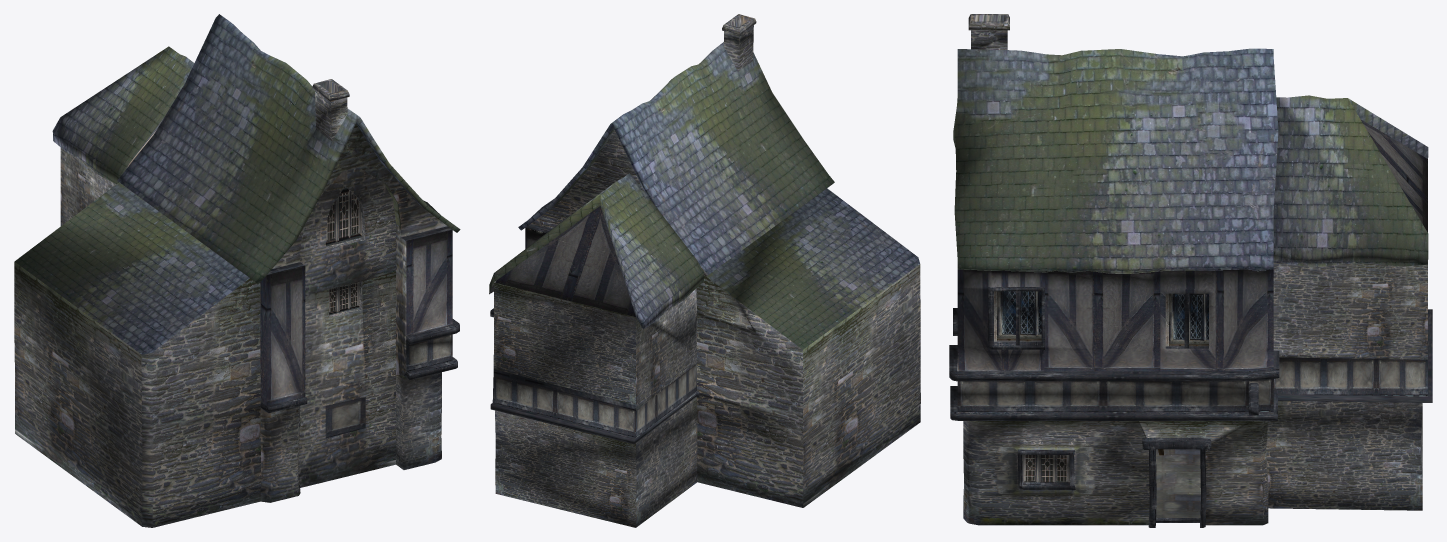
File: inn.fbx
3 views of the same model, side by side, from view 1: azimuth 30°, elevation 25°; view 2: azimuth 150°, elevation 25°; view 3: azimuth 270°, elevation 25° (orthographic). The views are drawn at different scales.
Visible parts, largest first — view 1: inn; view 2: inn; view 3: inn, inn_interior.
Part boxes in pixels (x1=…): inn: x1=14, y1=14, x2=460, y2=527; inn: x1=489, y1=14, x2=920, y2=527; inn: x1=949, y1=14, x2=1432, y2=527; inn_interior: x1=1156, y1=449, x2=1200, y2=517.
Bounding box in the file's own units: 1285 × 1391 × 1351.
